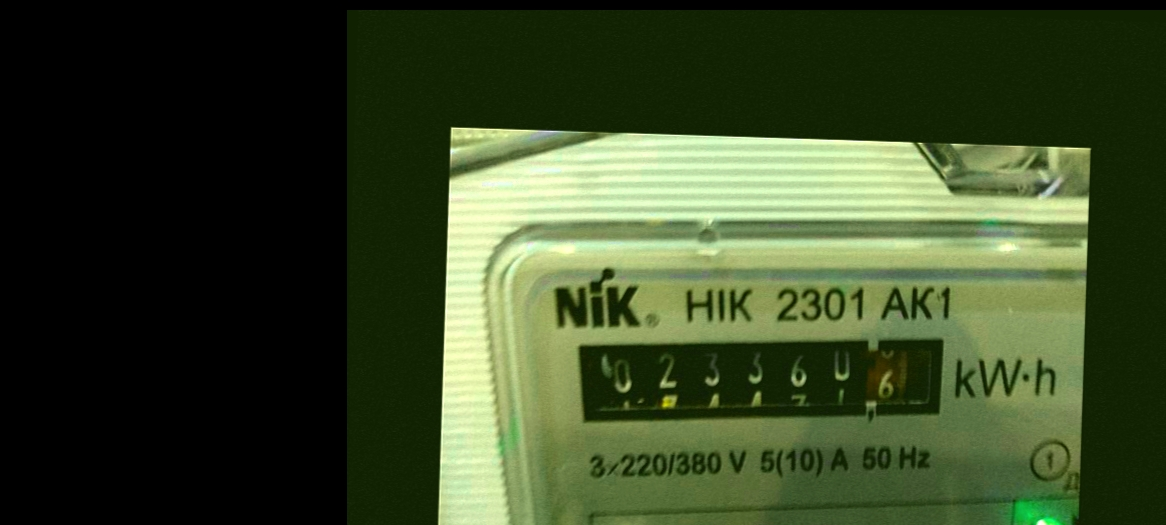0: (609, 354, 636, 396), (830, 346, 854, 384)
2: (654, 349, 681, 390)
3: (743, 348, 766, 387), (701, 349, 723, 389)
6: (785, 349, 812, 391), (876, 366, 899, 403)
screen: (554, 313, 959, 444)
